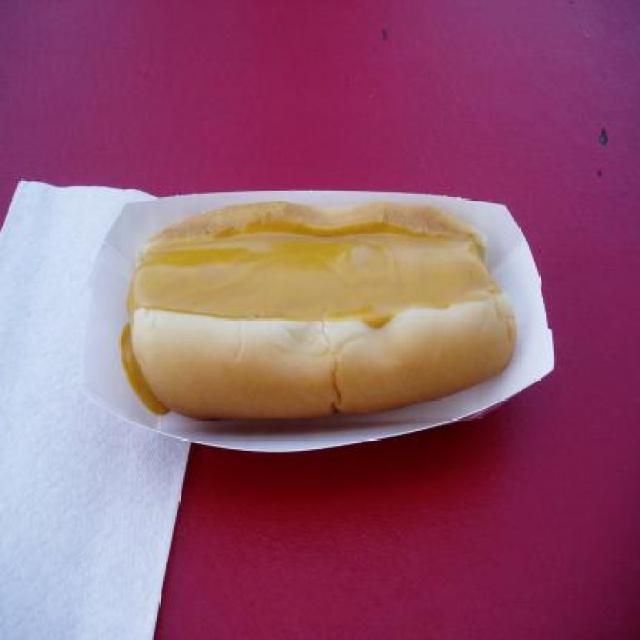Sandwich: (116, 198, 521, 418)
